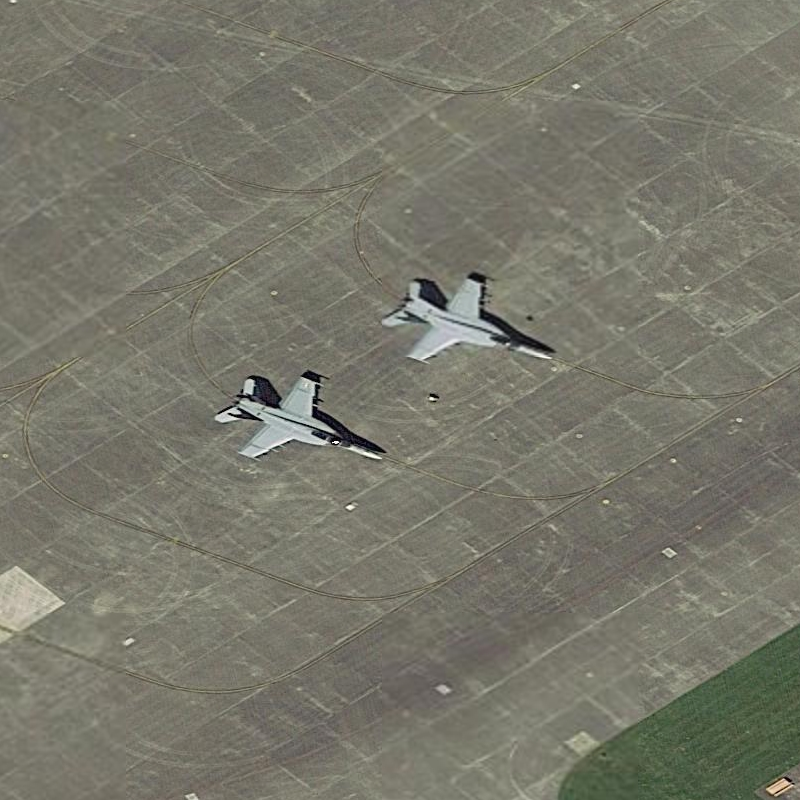A16: (373, 266, 565, 378), (211, 366, 390, 480)
